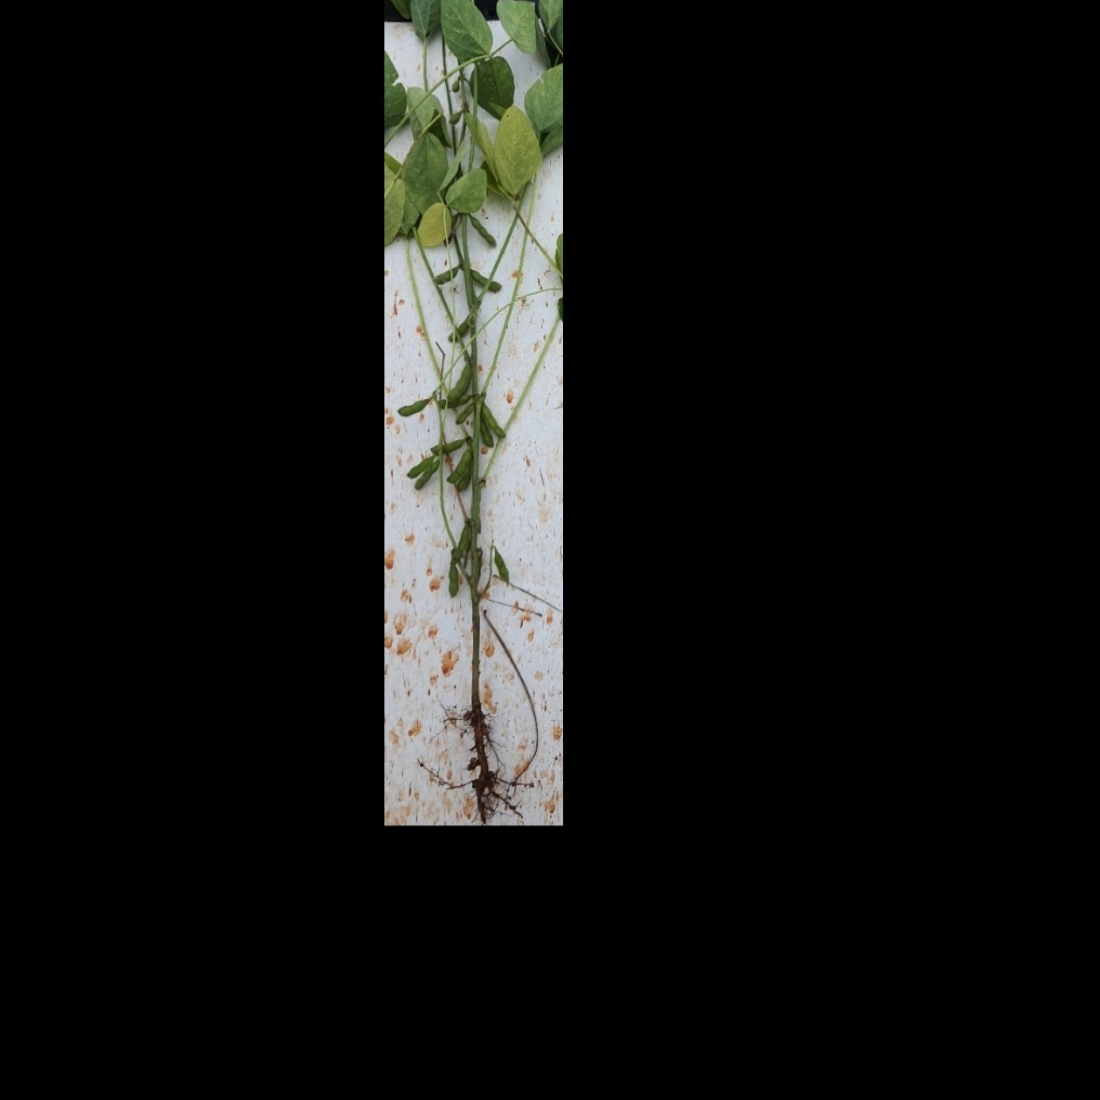pod: (468, 214, 499, 247), (396, 392, 434, 417), (448, 521, 469, 566), (429, 432, 468, 456), (490, 546, 511, 589), (446, 310, 472, 343), (466, 267, 502, 290), (430, 263, 461, 285), (446, 558, 460, 602), (451, 404, 476, 428), (477, 416, 494, 449)
soy: (396, 4, 548, 799)
